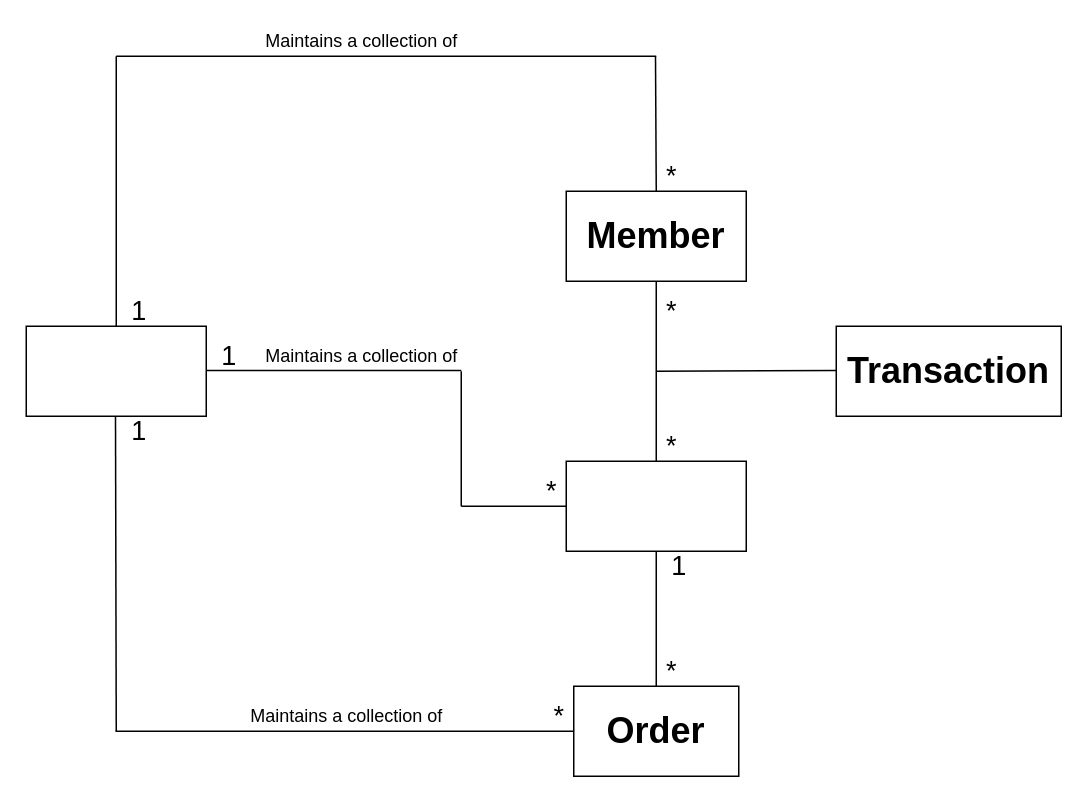
The diagram is 1088 pixels wide and 803 high, and some of its shapes have lost their labels. The centre of each missing label's shape, as x and y in pixels:
Product: point 655,505
Store: point 115,370
